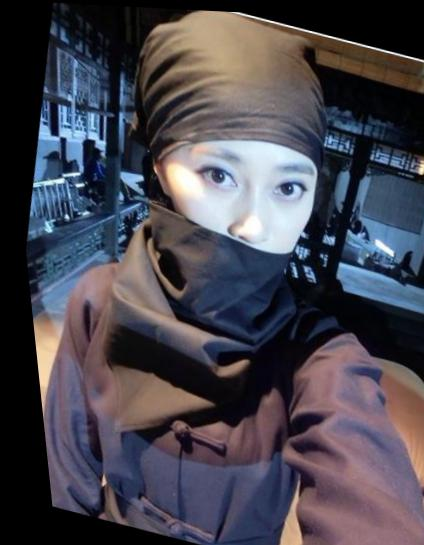WRONG: (145, 121, 340, 309)
